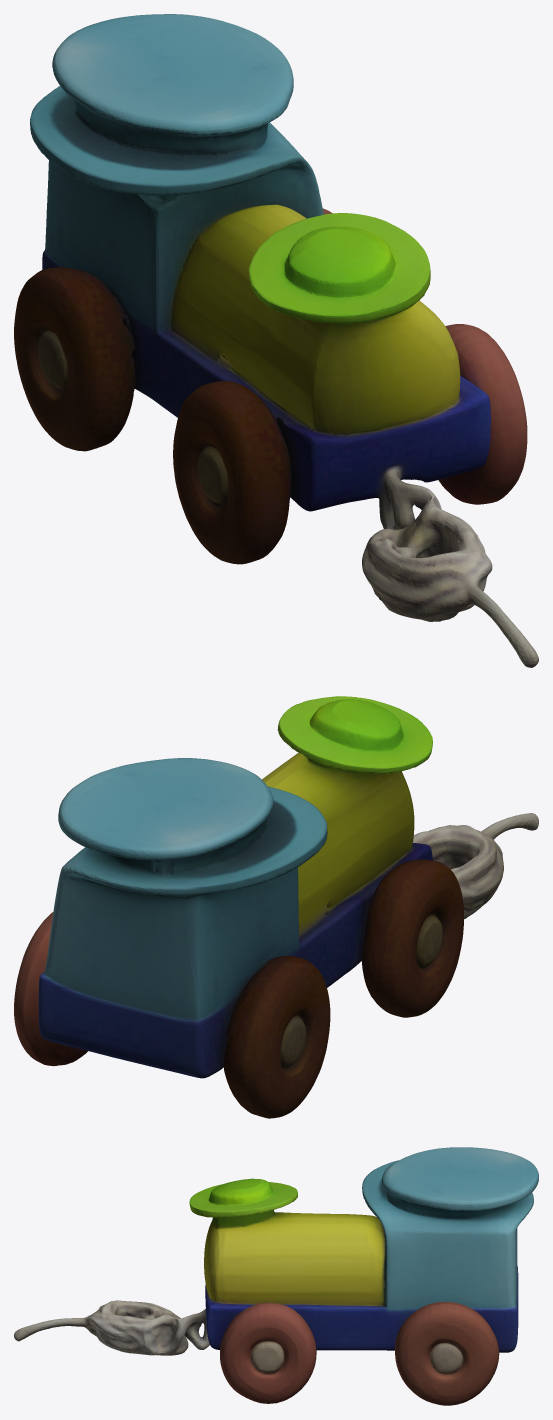
The model's file is sam3d.glb.
The picture shows the model from 3 angles, top to bottom: view 1: azimuth 30°, elevation 25°; view 2: azimuth 150°, elevation 25°; view 3: azimuth 270°, elevation 25°; orthographic projection. The views are drawn at different scales.
Parts seen in each view (by area): view 1: world; view 2: world; view 3: world.
Part boxes in pixels (x1,y1,x2,y2): world: (14,14,538,667); world: (14,696,538,1118); world: (14,1147,538,1405).
Bounding box in the file's own units: 0.3694 × 0.4094 × 0.9995.
